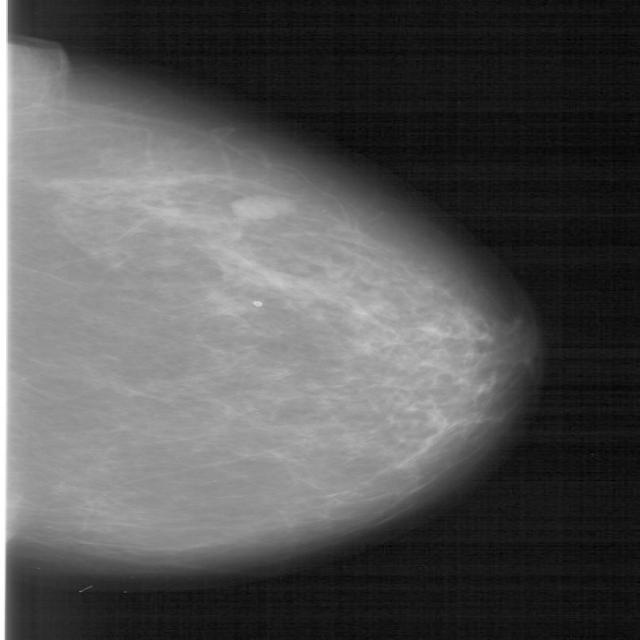tumour: (229, 190, 300, 217)
